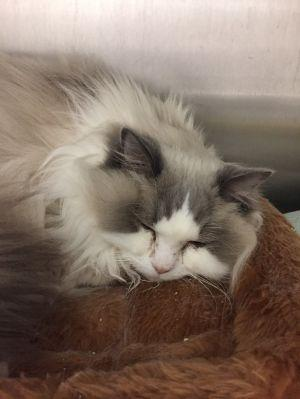ragdoll: (93, 109, 274, 309)
